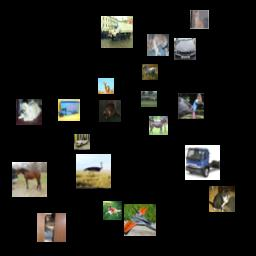airplane: (124, 204, 156, 236), (141, 91, 157, 107)
automobile: (174, 38, 196, 60), (74, 134, 90, 150)
bird: (76, 154, 111, 189), (178, 93, 204, 119)
cat: (37, 213, 66, 242), (209, 186, 235, 212), (147, 34, 169, 56), (99, 100, 121, 122), (190, 10, 209, 29)
deer: (98, 78, 114, 94)
dog: (16, 99, 42, 125), (103, 201, 122, 220)
truck: (185, 145, 220, 180), (101, 16, 133, 48), (58, 99, 80, 121)
